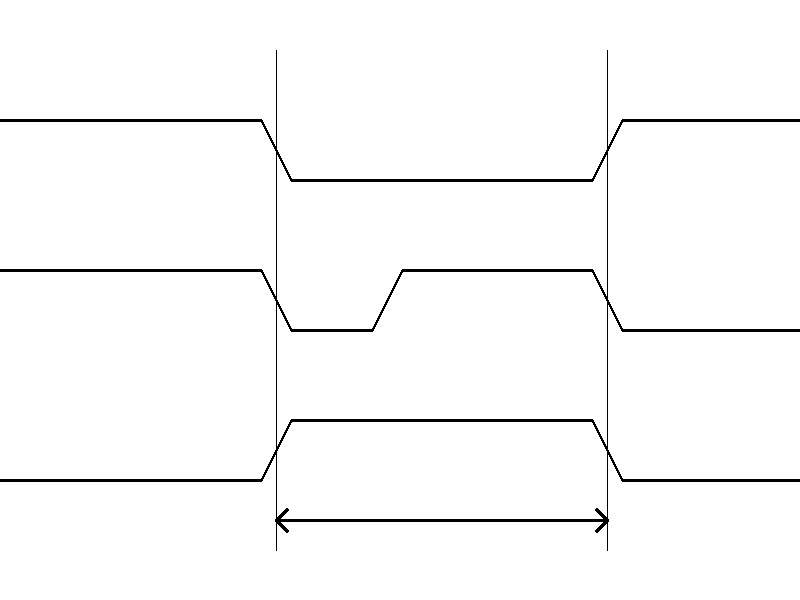double_arrow: (276, 505, 607, 535)
